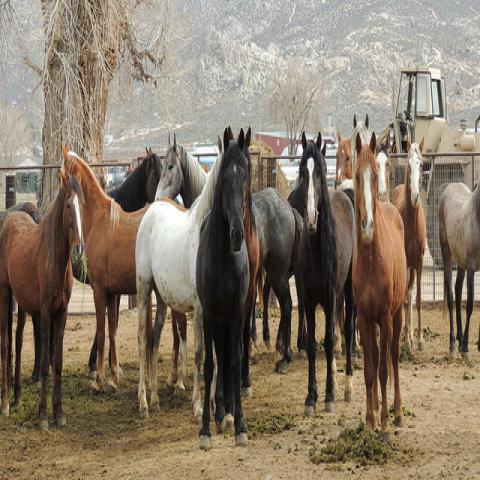truck: (378, 66, 479, 268)
